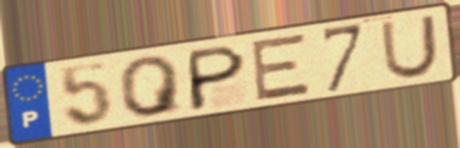5: (54, 59, 117, 129)
7: (321, 22, 369, 96)
E: (250, 31, 314, 104)
P: (186, 42, 249, 113)
Q: (116, 53, 187, 119)
U: (378, 12, 441, 81)
